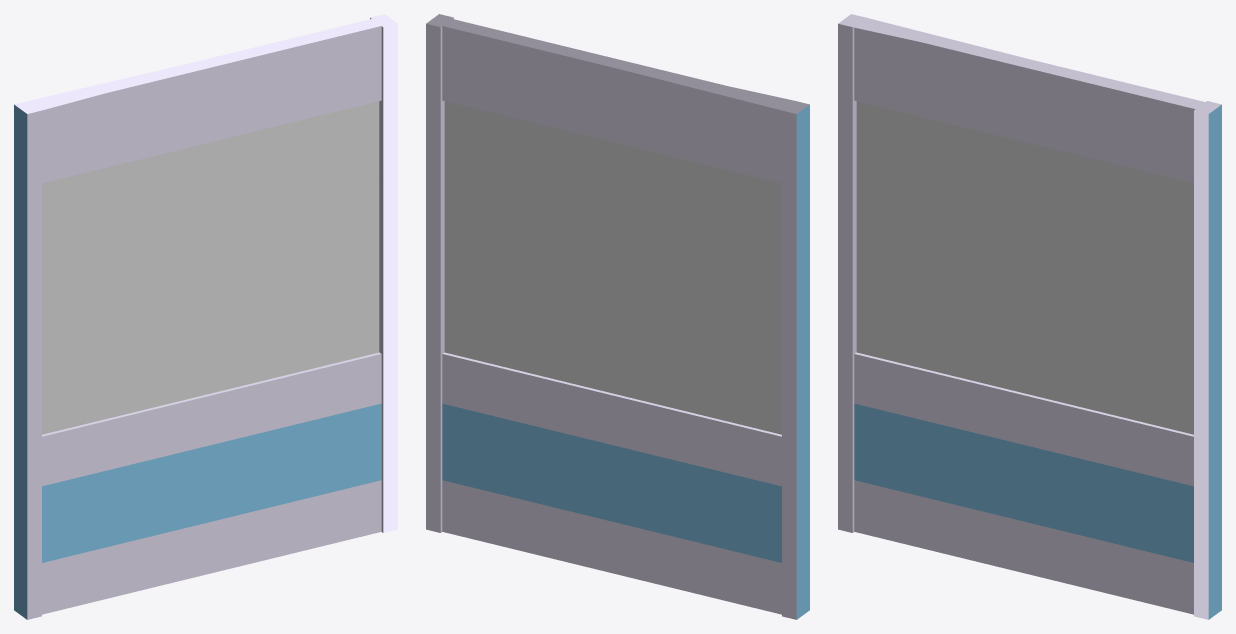
Rendered from Door_2.fbx.
The picture shows the model from 3 angles, left to right: view 1: azimuth 30°, elevation 25°; view 2: azimuth 150°, elevation 25°; view 3: azimuth 330°, elevation 25°; orthographic projection.
Visible parts, largest first — view 1: Door_2; view 2: Door_2; view 3: Door_2.
Boxes of the visible parts, x1=… form: Door_2: x1=14, y1=14, x2=397, y2=619; Door_2: x1=426, y1=14, x2=809, y2=619; Door_2: x1=838, y1=14, x2=1221, y2=619.
Bounding box in the file's own units: 772 × 1007 × 47.78.
